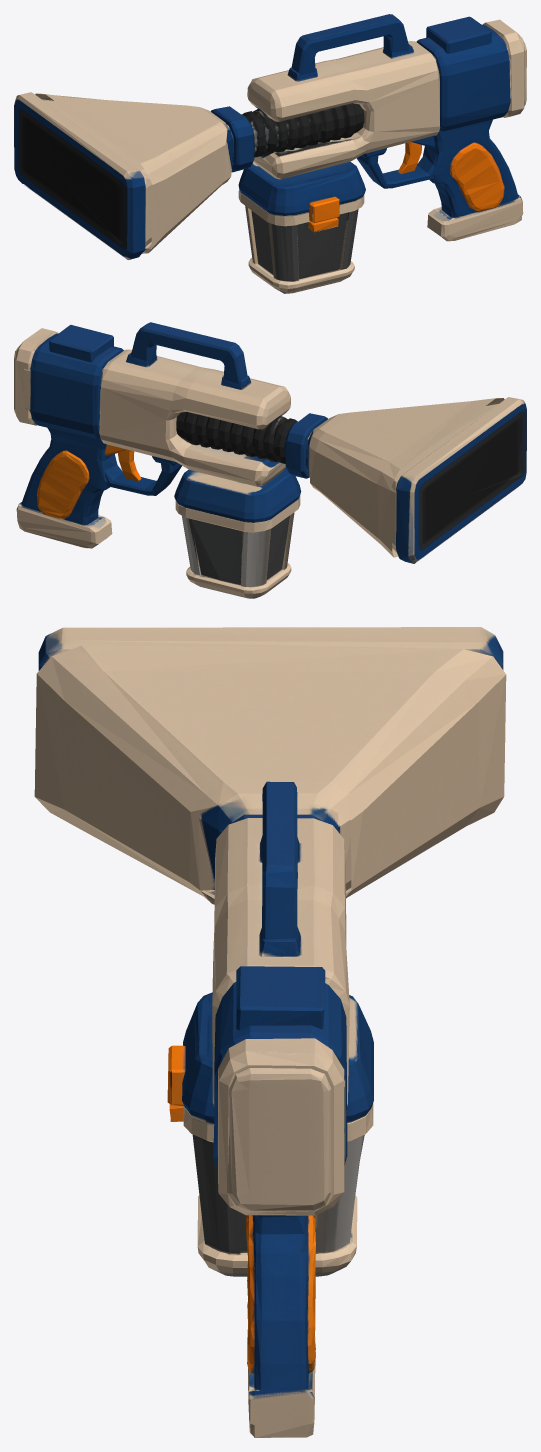
The model's file is Meshy_AI_Foamstorm_Blaster_0813170951_texture.fbx.
3 views of the same model, one above another, from view 1: azimuth 30°, elevation 25°; view 2: azimuth 150°, elevation 25°; view 3: azimuth 270°, elevation 25° (orthographic). The views are drawn at different scales.
Parts seen in each view (by area): view 1: mesh_node; view 2: mesh_node; view 3: mesh_node.
Part boxes in pixels (x1=…): mesh_node: x1=14, y1=14, x2=526, y2=293; mesh_node: x1=14, y1=322, x2=526, y2=598; mesh_node: x1=34, y1=627, x2=506, y2=1437.
Bounding box in the file's own units: 100 × 51.17 × 46.09.
Materials: 1 (1 with a texture image).
